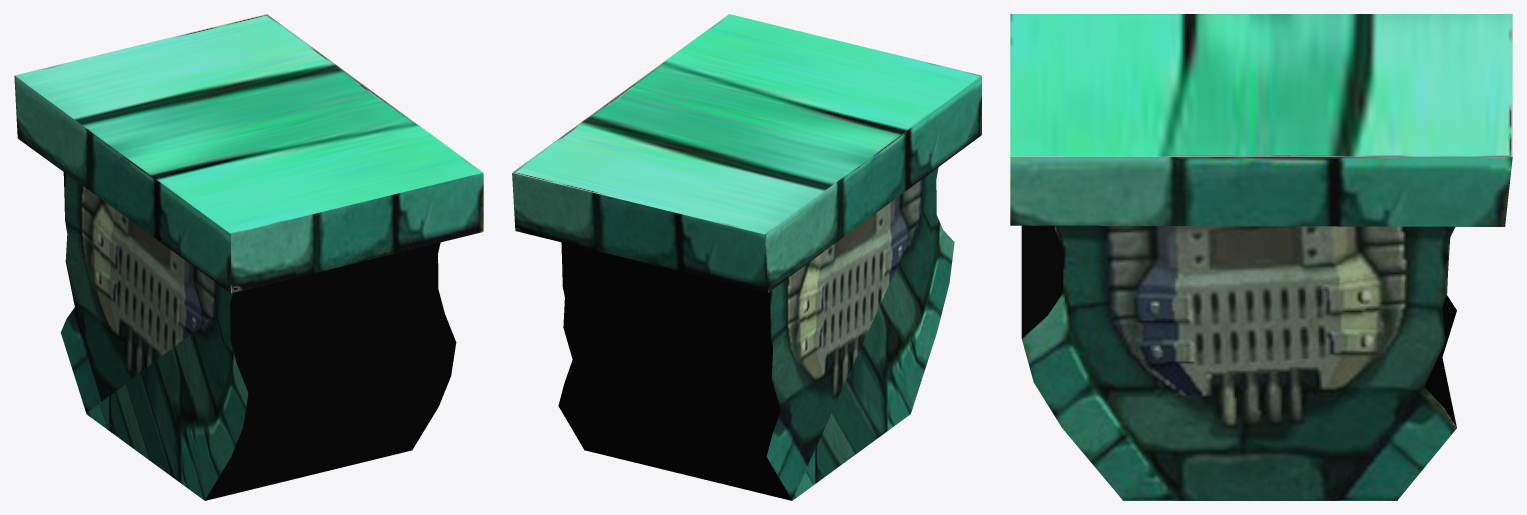
Rendered from Puente1.FBX.
3 views of the same model, side by side, from view 1: azimuth 30°, elevation 25°; view 2: azimuth 150°, elevation 25°; view 3: azimuth 270°, elevation 25° (orthographic). The views are drawn at different scales.
Visible parts, largest first — view 1: pCube4; view 2: pCube4; view 3: pCube4.
Boxes of the visible parts, bbox=[...] form: pCube4: bbox=[14, 14, 483, 500]; pCube4: bbox=[512, 14, 981, 500]; pCube4: bbox=[1010, 14, 1512, 500].
Size of the model in its own units: 4.63 by 5.39 by 6.89.
